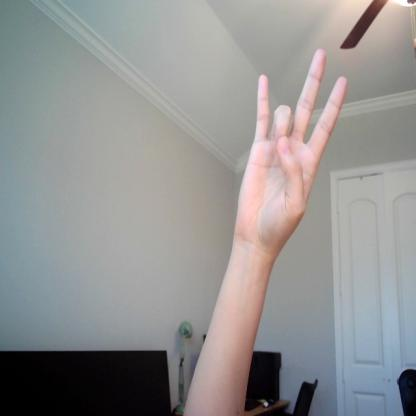seven: (240, 43, 352, 241)
